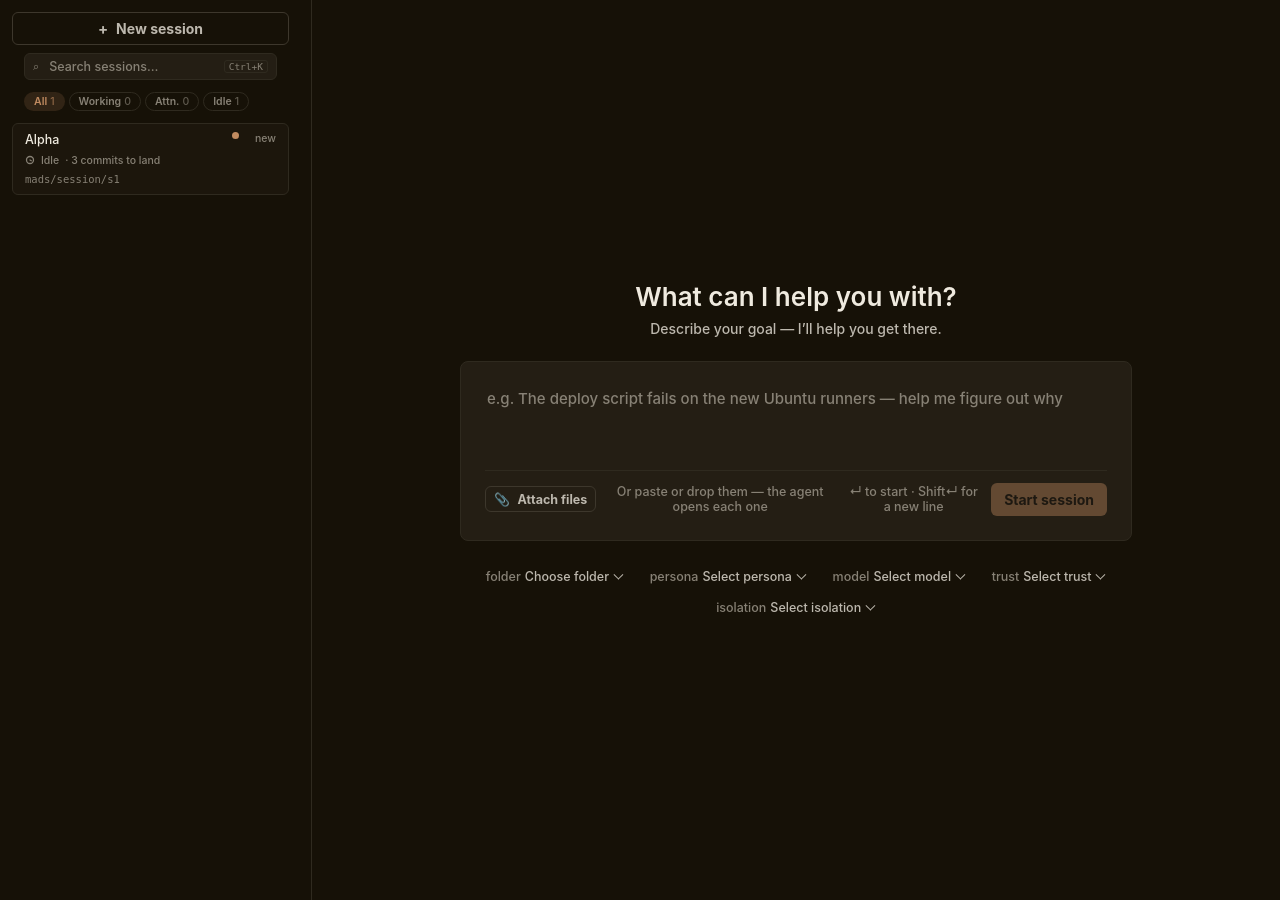
SessionsSurface › sleeping an isolated session with commits to land › asks from the workspace kebab's Sleep now, the same way
The width and height of the screenshot is (1280, 900).
Click the text "Alpha": click(42, 140) [25,132,59,147]
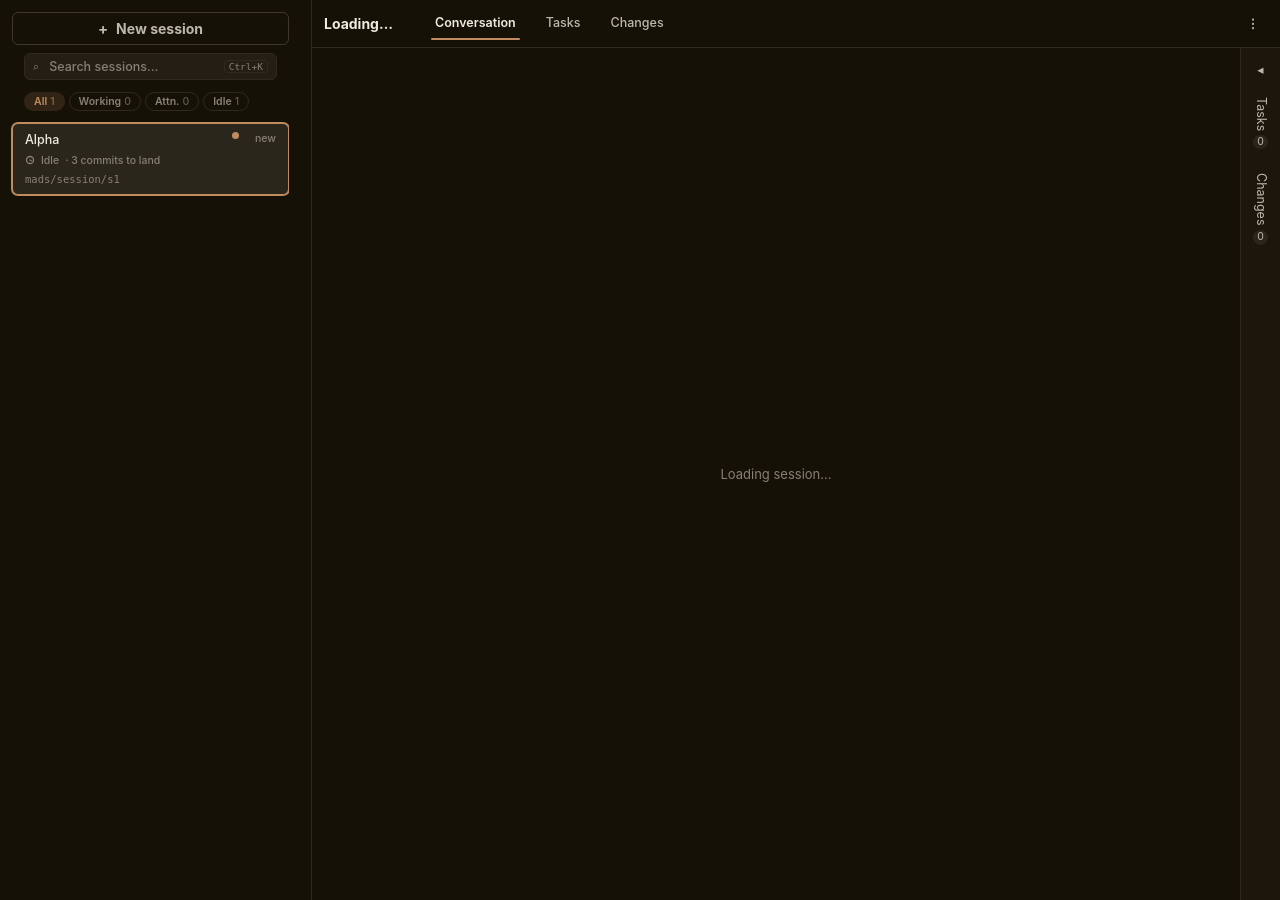
Expected: the button named "Workspace actions" is shown
Click the button named "Workspace actions": click(1253, 24) [1238,10,1268,36]
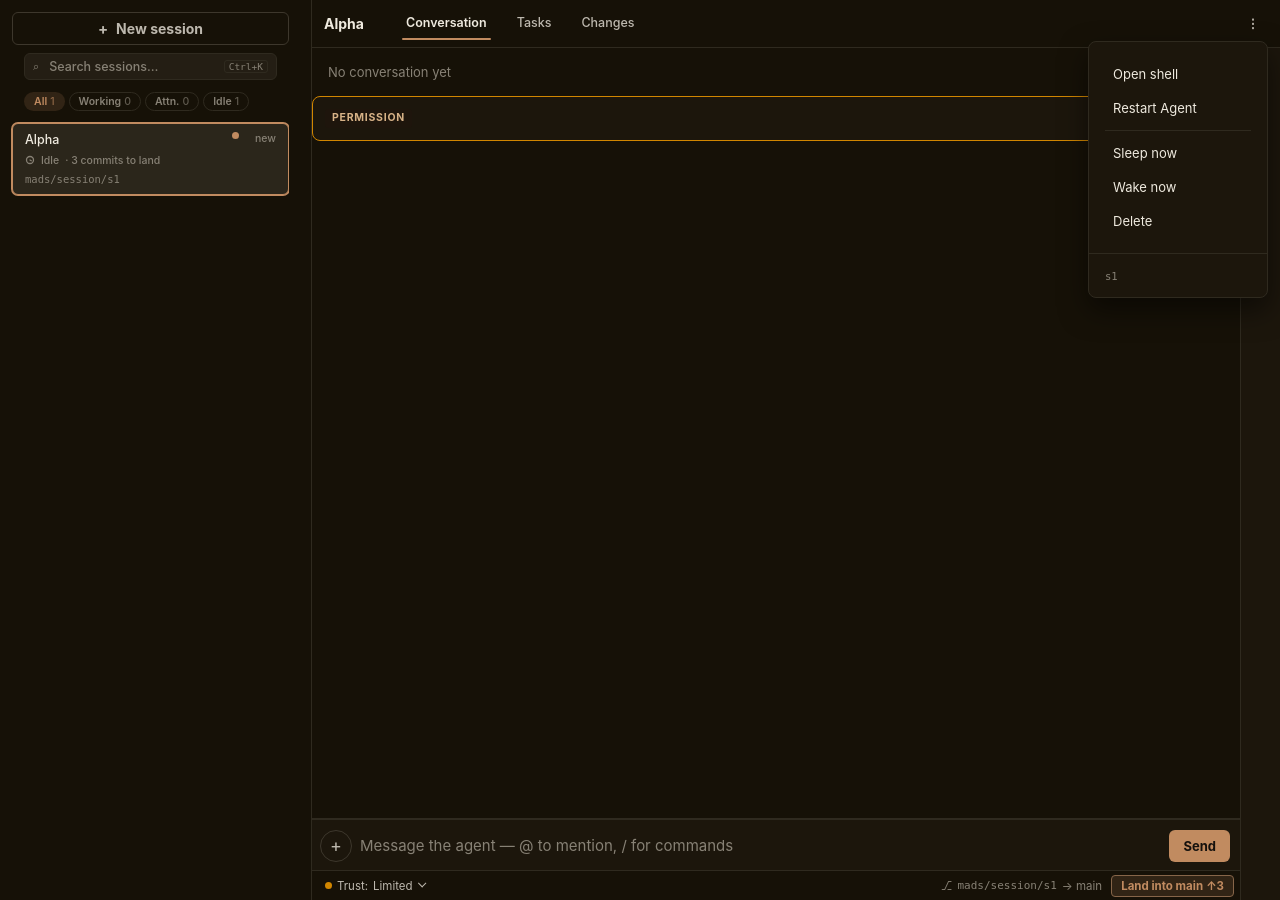
Click the button "Sleep now": click(1178, 152) [1105,136,1251,168]
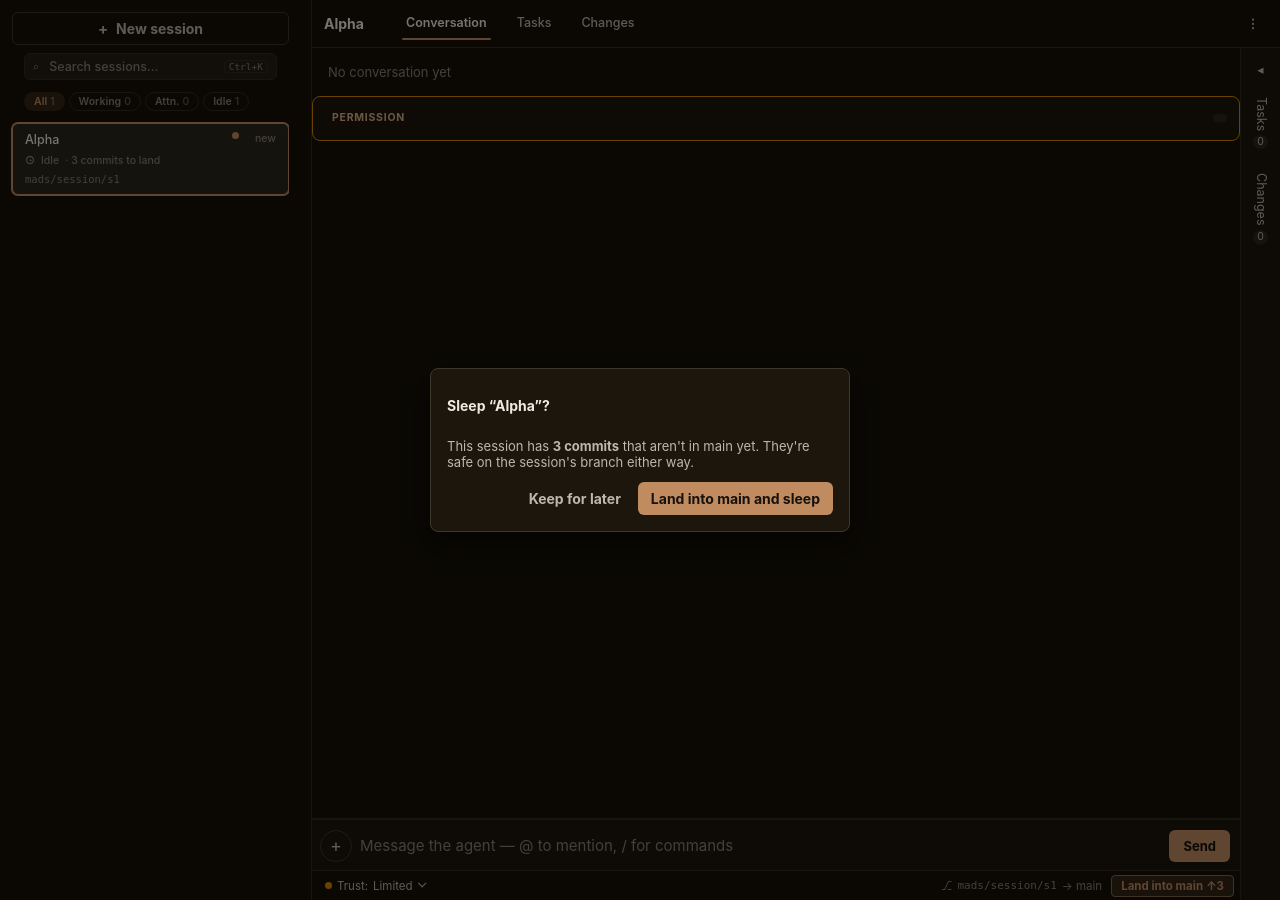
Expected: the heading "Sleep “Alpha”?" is shown, [447,397,550,414]
Expected: the button "Land into main and sleep" is shown, [638,482,833,515]
